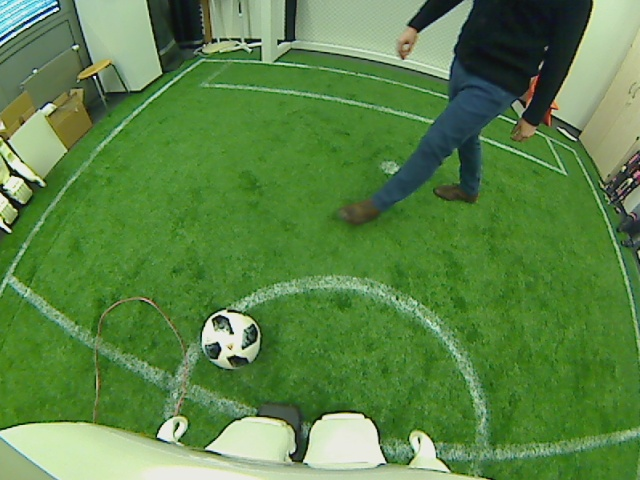ball: (198, 310, 262, 370)
